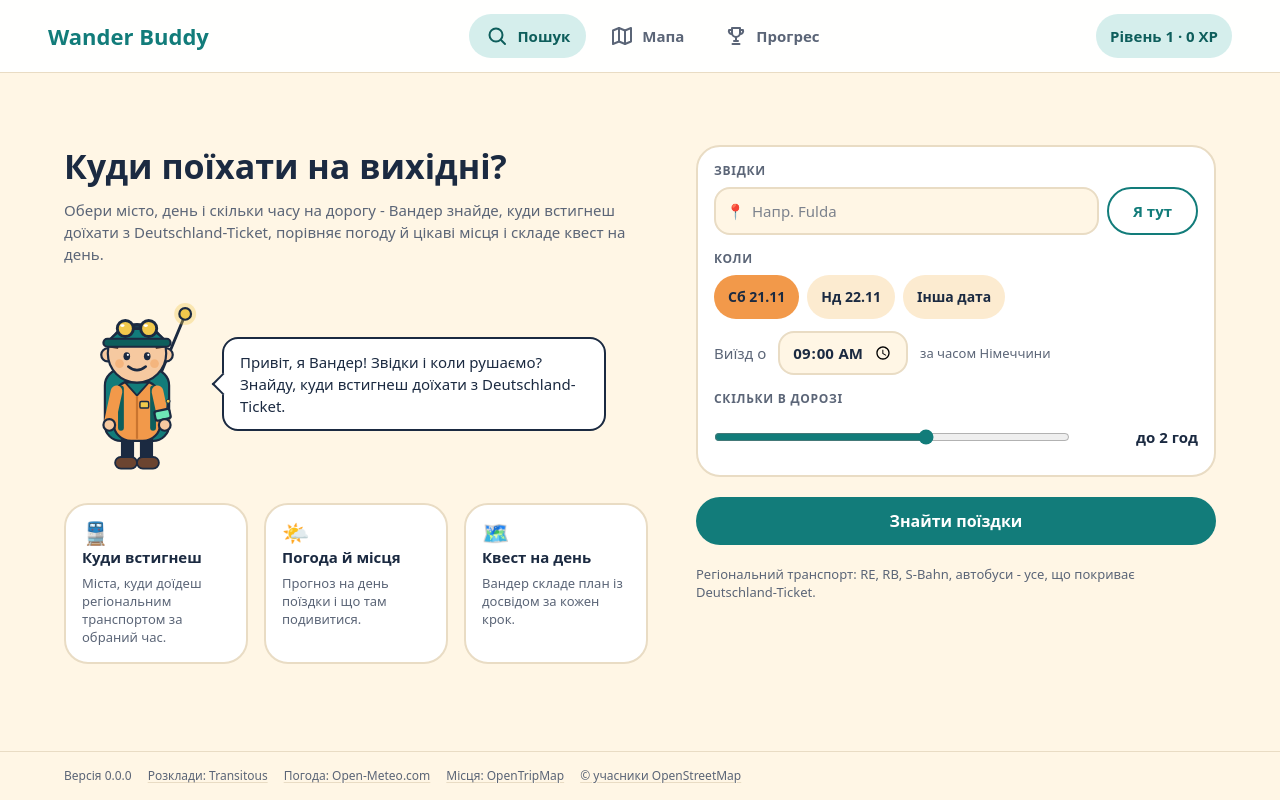
Test case: "I am here" › uses the position when it arrives
The width and height of the screenshot is (1280, 800).
Later steps or results of the test are not shown.
Click the button "Я тут" at (1152, 211), box [1107,187,1198,235]
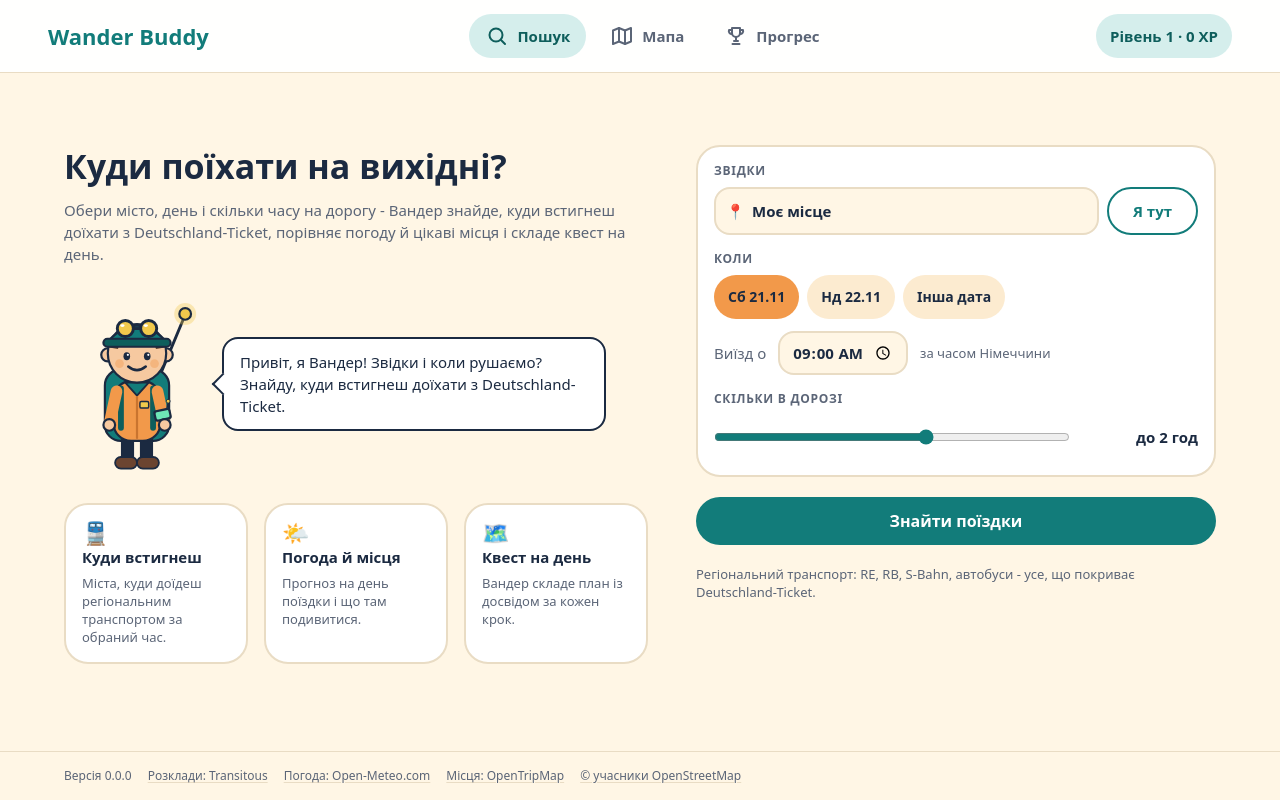
Now the dropdown holds "Моє місце", box [714,187,1099,235]
